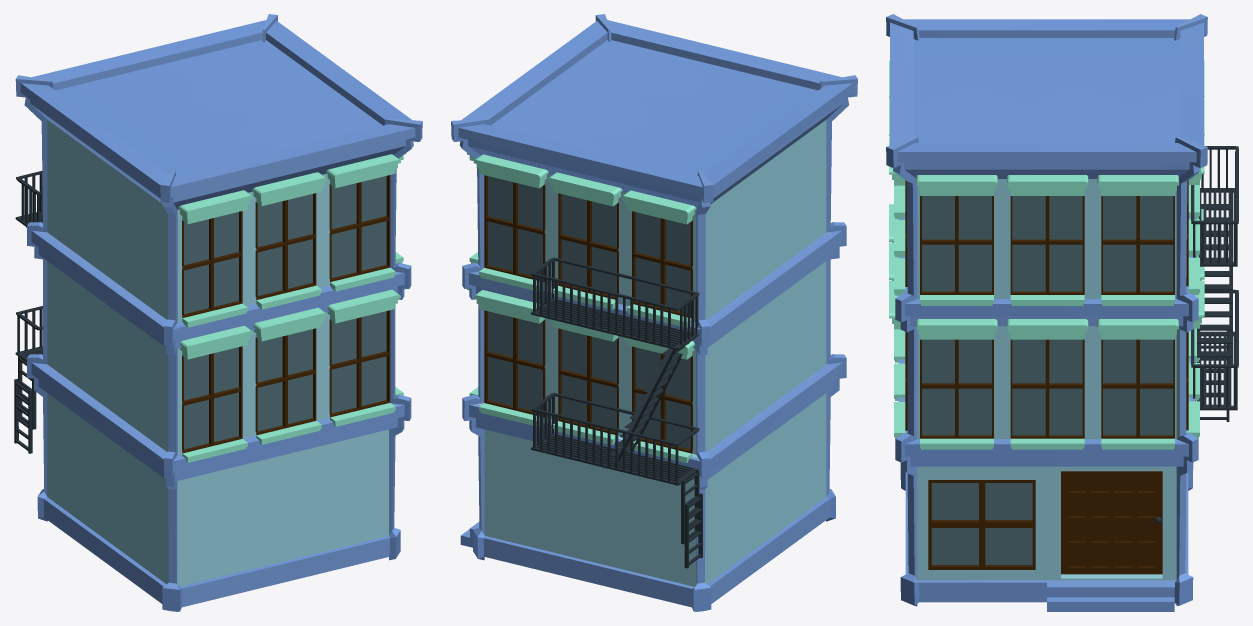
Rendered from 3-Ladder BLue.fbx.
3 views of the same model, side by side, from view 1: azimuth 30°, elevation 25°; view 2: azimuth 150°, elevation 25°; view 3: azimuth 270°, elevation 25° (orthographic). The views are drawn at different scales.
Parts seen in each view (by area): view 1: Cube.003; view 2: Cube.003; view 3: Cube.003.
Boxes of the visible parts, <box> form: Cube.003: <box>14,14,422,611</box>; Cube.003: <box>451,14,857,611</box>; Cube.003: <box>886,14,1238,611</box>.
Size of the model in its own units: 1558 by 1435 by 2274.
